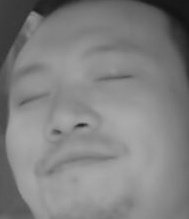blink: (91, 65, 132, 88), (11, 84, 50, 107)
mouth: (45, 148, 118, 181)
